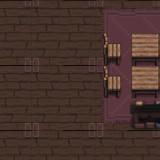Hide: (127, 99, 160, 134)
Obstacle: (97, 64, 131, 100), (97, 32, 130, 68), (129, 64, 160, 100), (130, 31, 160, 66)
